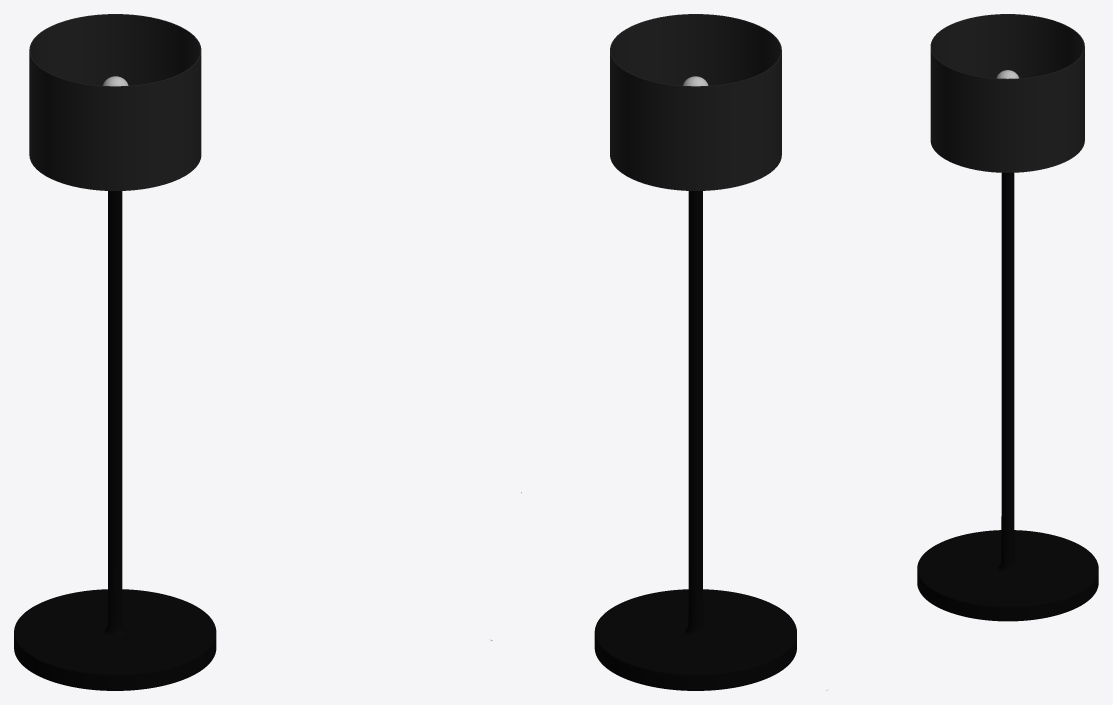
File: lamp2.gltf
The picture shows the model from 3 angles, left to right: view 1: azimuth 30°, elevation 25°; view 2: azimuth 150°, elevation 25°; view 3: azimuth 270°, elevation 25°; orthographic projection. The views are drawn at different scales.
Visible parts, largest first — view 1: Cylinder001_1001, Cylinder001_1001.001, Cylinder001_1001.002; view 2: Cylinder001_1001, Cylinder001_1001.001, Cylinder001_1001.002; view 3: Cylinder001_1001, Cylinder001_1001.001, Cylinder001_1001.002.
Boxes of the visible parts, left/top/right/bottom form: Cylinder001_1001: left=14, top=14, right=216, bottom=674; Cylinder001_1001.001: left=108, top=191, right=122, bottom=562; Cylinder001_1001.002: left=14, top=630, right=216, bottom=690; Cylinder001_1001: left=595, top=14, right=796, bottom=674; Cylinder001_1001.001: left=688, top=191, right=702, bottom=562; Cylinder001_1001.002: left=594, top=630, right=796, bottom=690; Cylinder001_1001: left=917, top=14, right=1098, bottom=606; Cylinder001_1001.001: left=1001, top=172, right=1014, bottom=506; Cylinder001_1001.002: left=917, top=570, right=1098, bottom=621.
Bounding box in the file's own units: 0.4902 × 0.77 × 0.3556.
2 materials, 1 textured.
